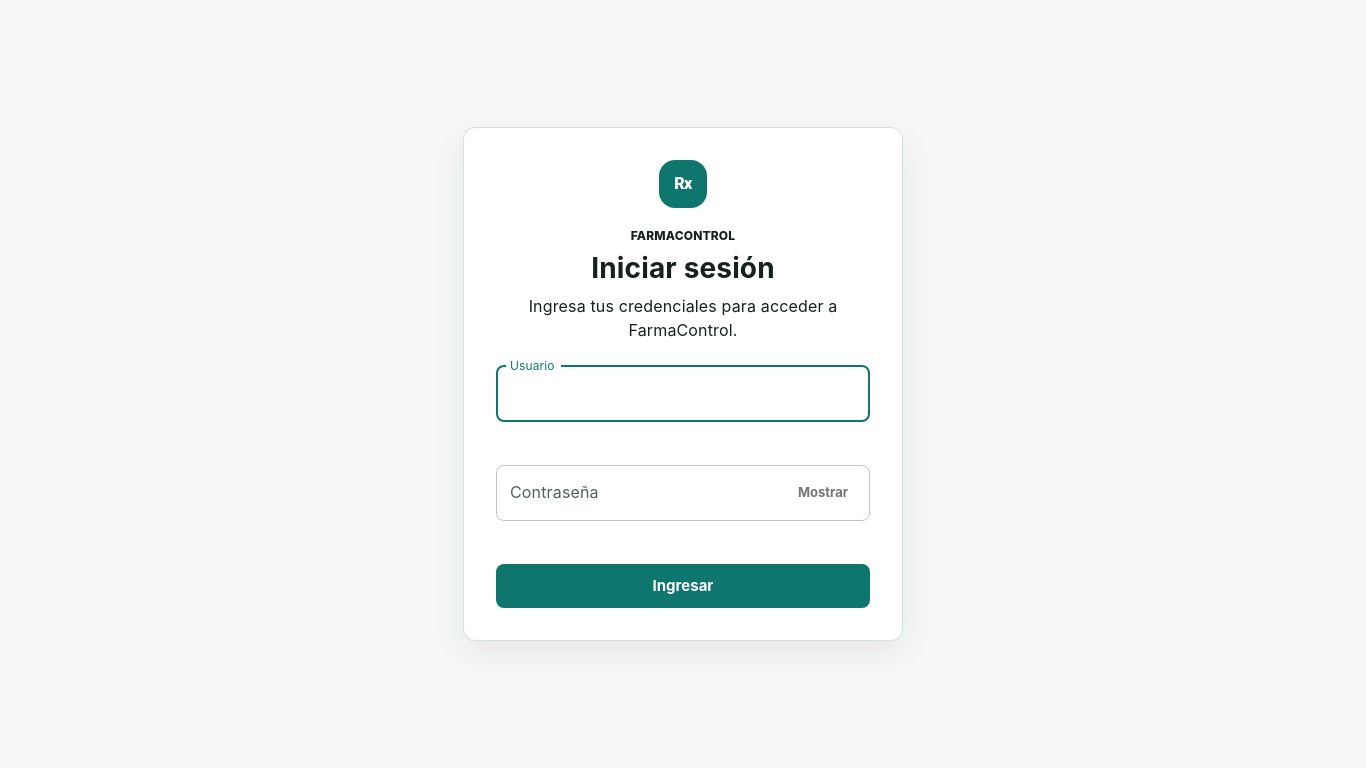
it: flujo frontend de autenticación › inicia sesión y navega al área protegida
The image size is (1366, 768).
Expected: the heading "Iniciar sesión" is shown, [591,251,775,285]
In the field labelled "Usuario": [683, 394] box [496,366,870,422], type "cajero"
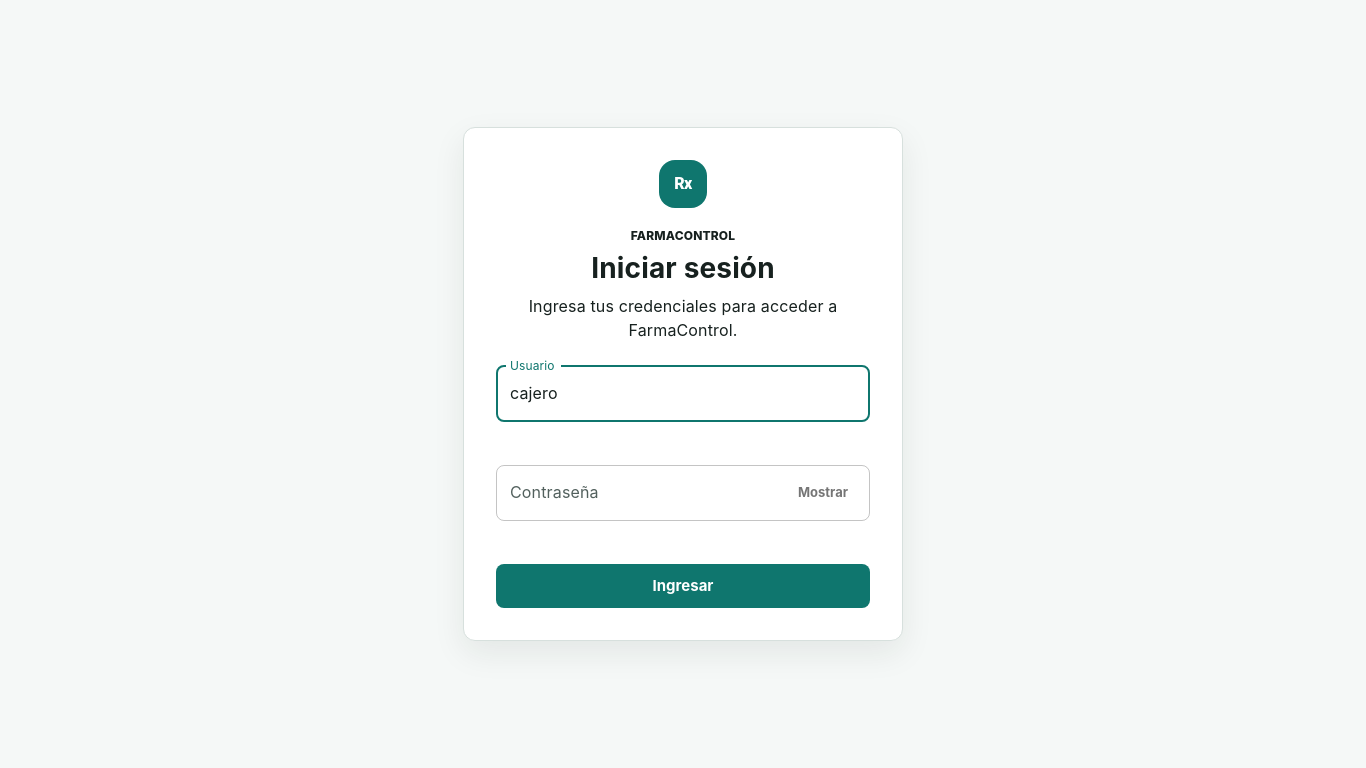
In the password field labelled "Contraseña": [639, 493] box [496,465,782,521], type "Password#2026!"
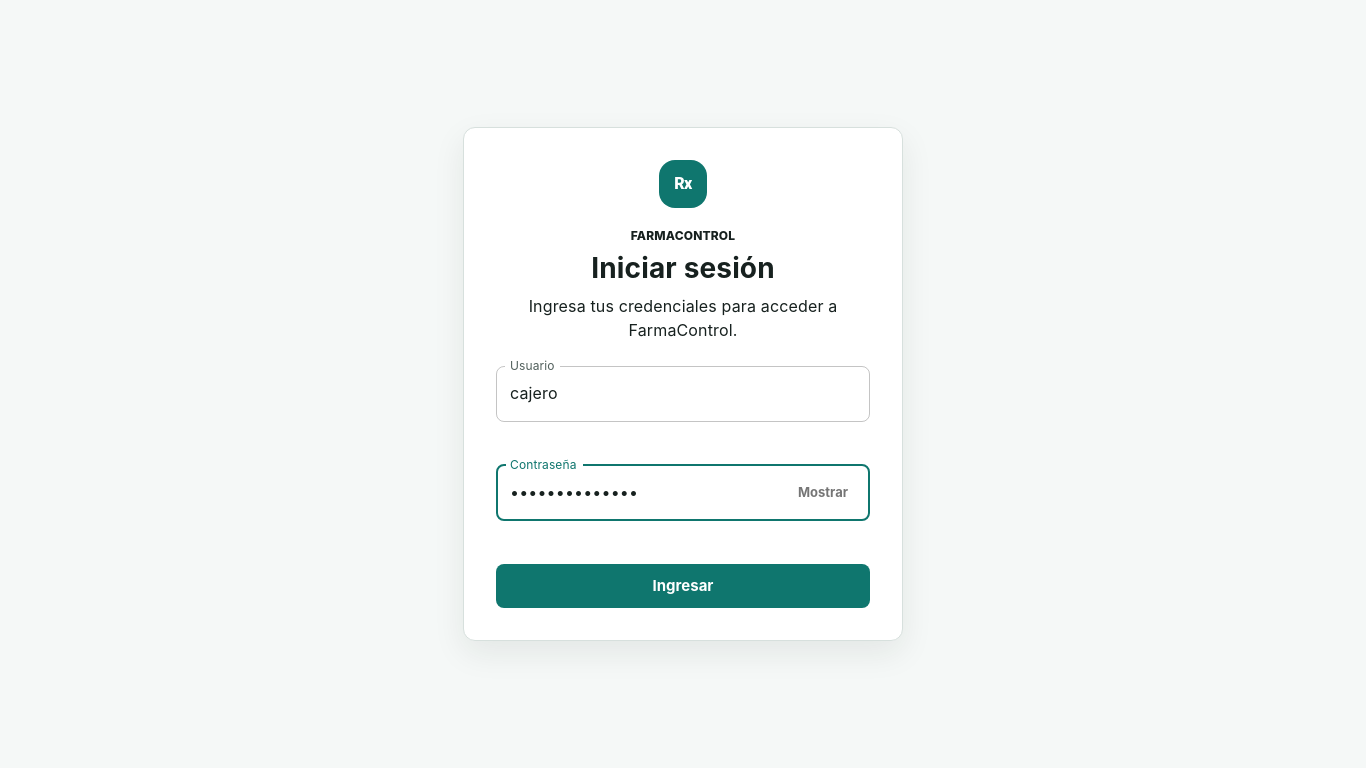
Click the button "Ingresar": [683, 586] box [496,564,870,608]
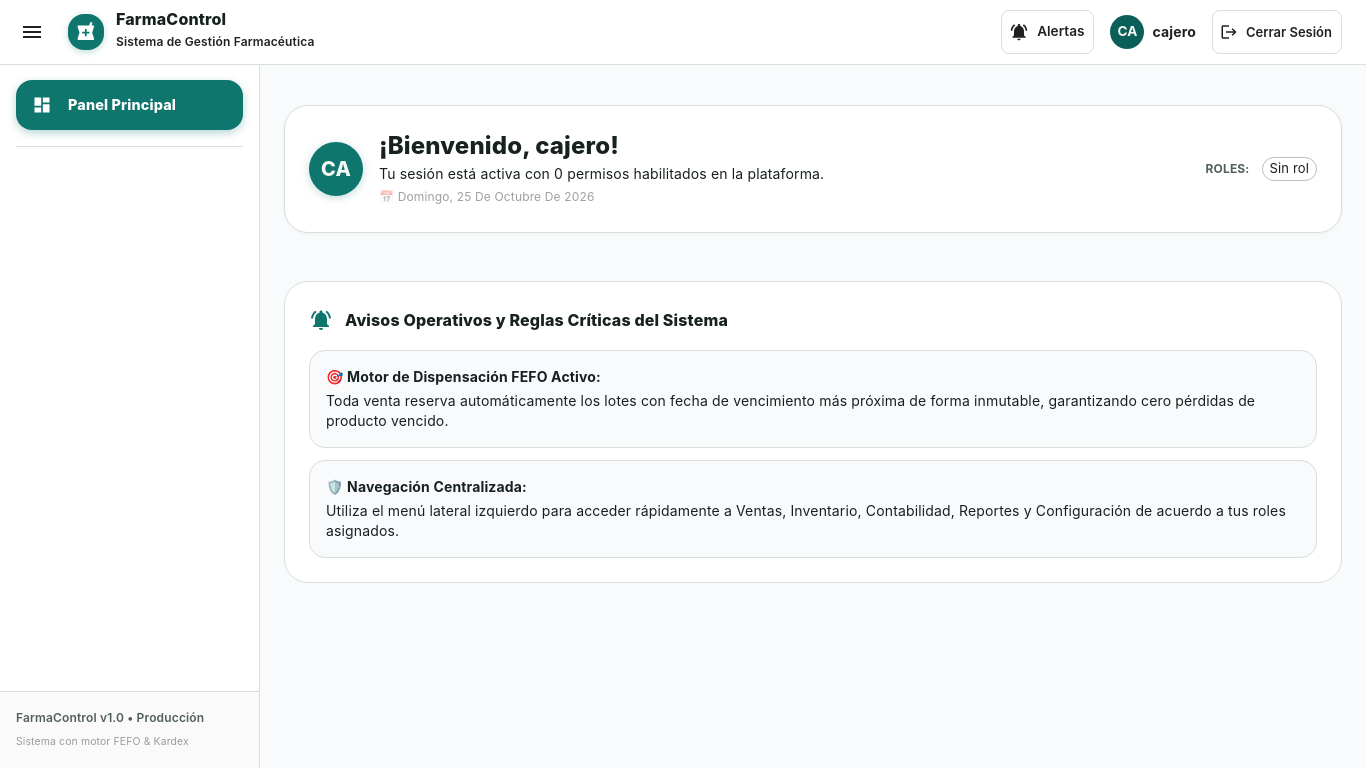
Expected: the heading "¡Bienvenido, cajero!" is shown, [379,131,619,160]
Expected: the text "cajero" is shown, [1152,24,1196,40]
